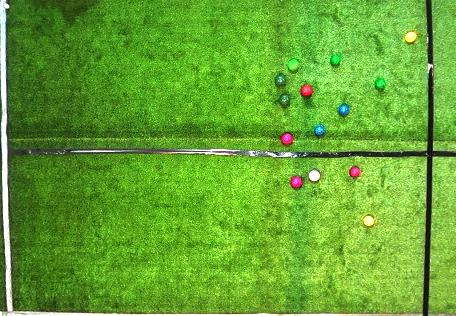blue: (314, 126, 325, 136), (339, 104, 349, 115)
green: (288, 59, 299, 71), (330, 55, 341, 66), (279, 94, 290, 104), (375, 79, 385, 90), (275, 75, 285, 85)
red: (290, 176, 303, 188), (300, 85, 312, 97), (281, 133, 293, 145), (309, 170, 320, 181), (349, 167, 360, 177)
vline: (423, 1, 456, 315), (0, 1, 16, 315)
white: (4, 3, 10, 9)
yellow: (405, 32, 417, 43), (363, 216, 374, 226)
